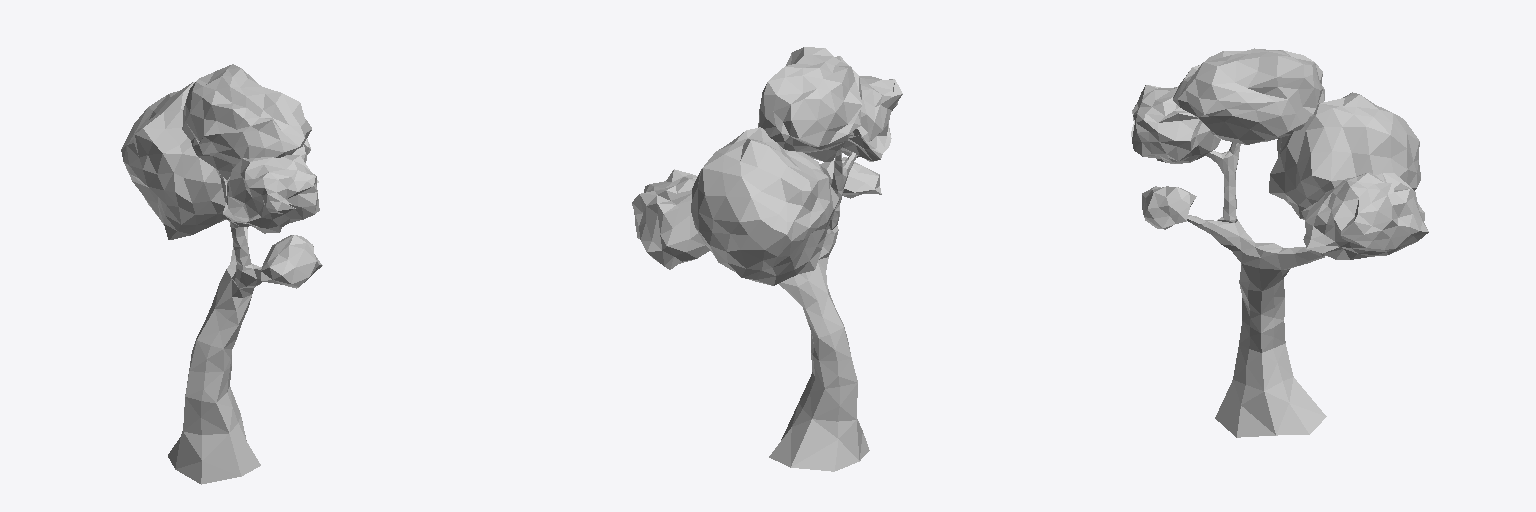
Rendered from common_tree_2.obj.
3 views of the same model, side by side, from view 1: azimuth 30°, elevation 25°; view 2: azimuth 150°, elevation 25°; view 3: azimuth 270°, elevation 25° (orthographic).
Parts seen in each view (by area): view 1: common_tree_2_leaves_dark, common_tree_2_trunk, common_tree_2_leaves; view 2: common_tree_2_leaves_dark, common_tree_2_trunk, common_tree_2_leaves; view 3: common_tree_2_leaves_dark, common_tree_2_leaves, common_tree_2_trunk.
Boxes of the visible parts, x1,y1,x2,y2 form: common_tree_2_leaves_dark: [121, 64, 311, 239]; common_tree_2_trunk: [168, 173, 261, 484]; common_tree_2_leaves: [222, 139, 322, 288]; common_tree_2_leaves_dark: [691, 47, 862, 285]; common_tree_2_trunk: [769, 146, 869, 471]; common_tree_2_leaves: [632, 76, 902, 269]; common_tree_2_leaves_dark: [1173, 48, 1420, 219]; common_tree_2_leaves: [1131, 85, 1428, 259]; common_tree_2_trunk: [1187, 142, 1326, 437].
Bounding box in the file's own units: 2.5 × 5.33 × 3.74.